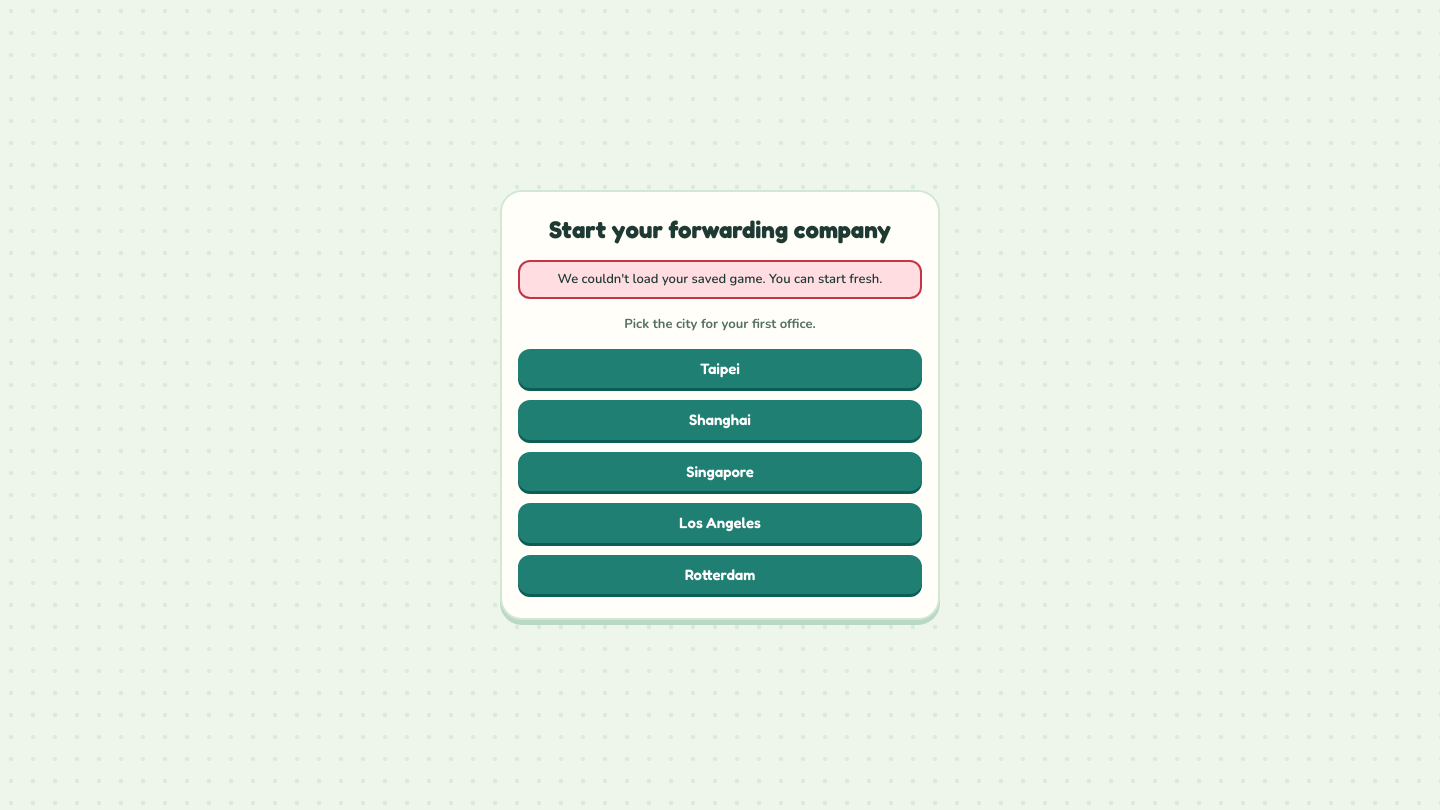
Test: App › a stored save that cannot be loaded › when the backup could not be written but saving still works › confirming starts the game from the chosen city and overwrites the old save
Click the button "Singapore": (720, 472) left=518, top=452, right=922, bottom=491
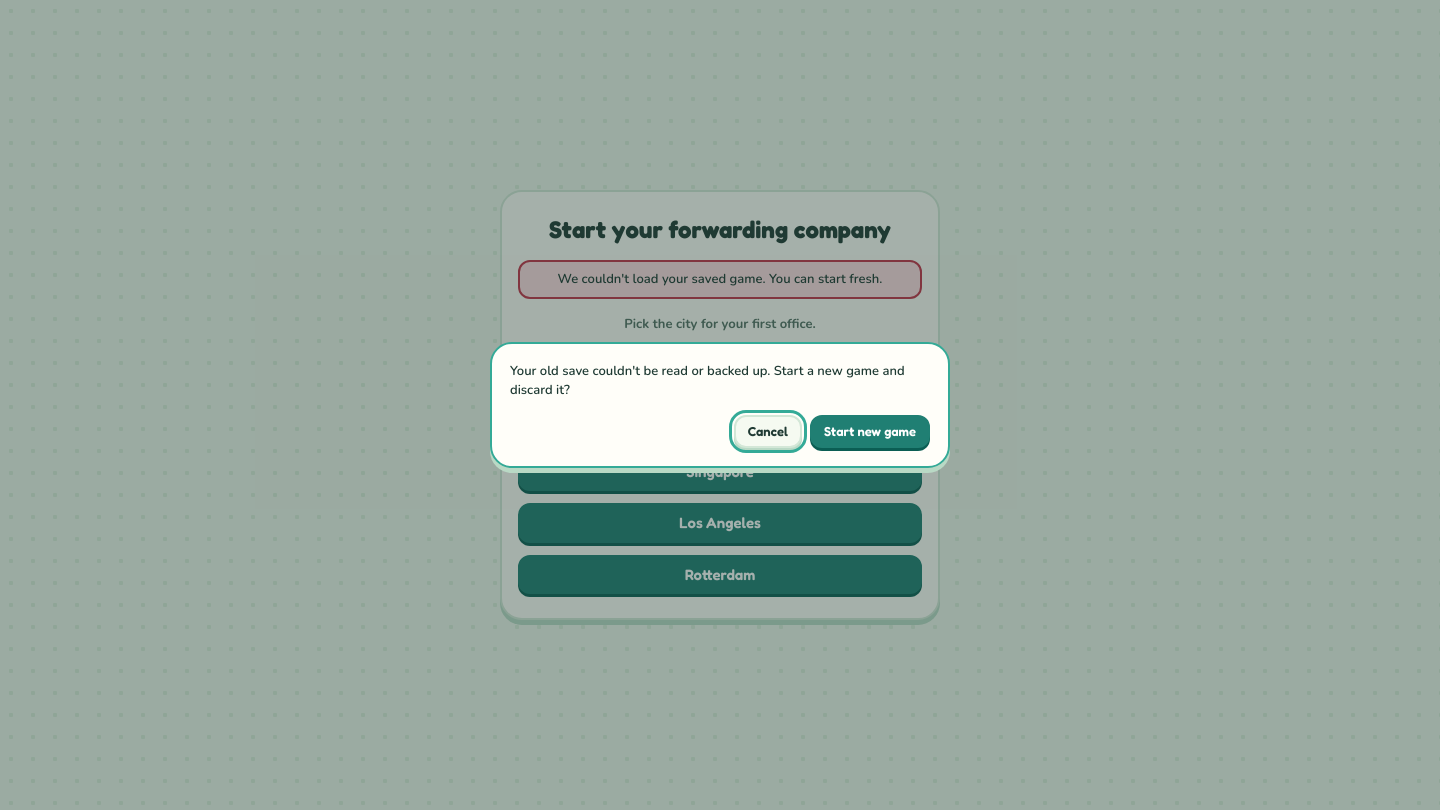
Click the button "Start new game": (870, 431) left=810, top=415, right=930, bottom=448
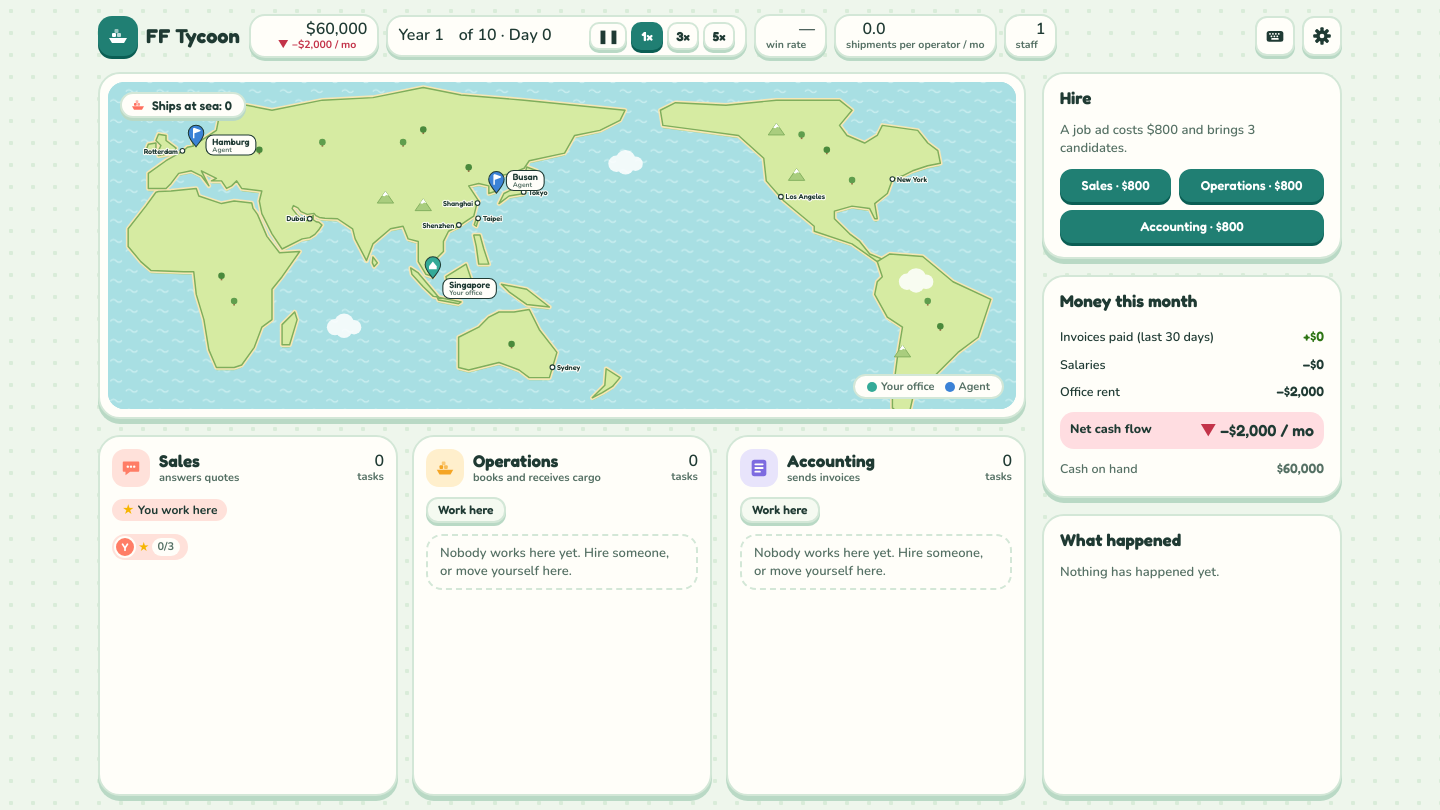
Check: the element with class "game-body" is shown
